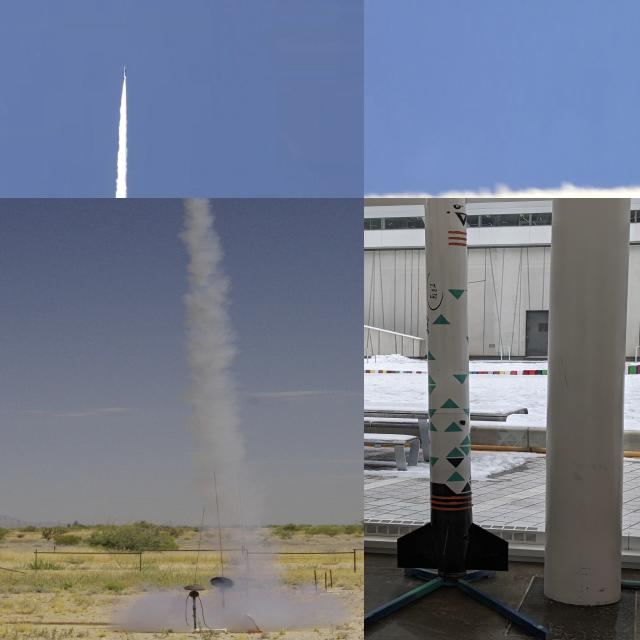Rocket: (397, 198, 509, 585), (124, 64, 126, 79)
